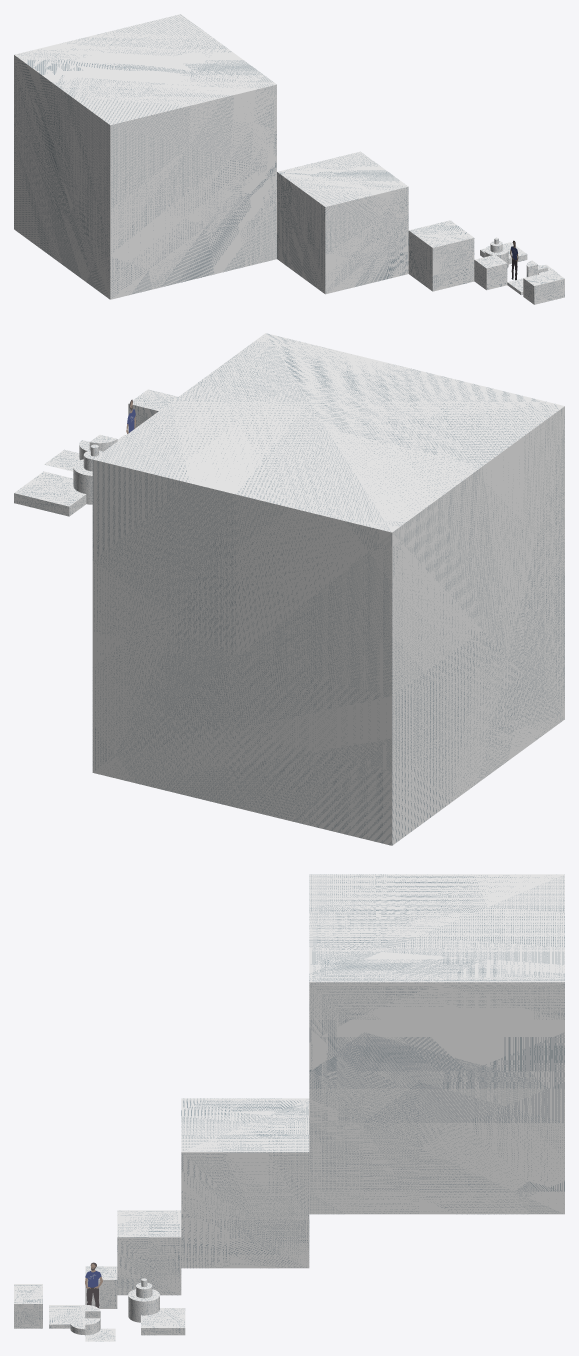
Rendered from sketch_test.obj.
3 views of the same model, one above another, from view 1: azimuth 30°, elevation 25°; view 2: azimuth 150°, elevation 25°; view 3: azimuth 270°, elevation 25° (orthographic). The views are drawn at different scales.
Parts seen in each view (by area): view 1: Mesh3 Model, Mesh2 Model, Mesh4 Model; view 2: Mesh3 Model, Mesh4 Model, Mesh2 Model; view 3: Mesh3 Model, Mesh4 Model, Mesh2 Model.
Part boxes in pixels (bbox=[...]): Mesh3 Model: bbox=[14, 14, 557, 299]; Mesh2 Model: bbox=[523, 270, 564, 304]; Mesh4 Model: bbox=[480, 237, 527, 267]; Mesh3 Model: bbox=[44, 333, 564, 845]; Mesh4 Model: bbox=[14, 444, 102, 516]; Mesh2 Model: bbox=[128, 389, 178, 432]; Mesh3 Model: bbox=[49, 874, 564, 1341]; Mesh4 Model: bbox=[128, 1278, 185, 1335]; Mesh2 Model: bbox=[14, 1284, 42, 1328].
Bounding box in the file's own units: 17.42 × 8 × 17.23.
